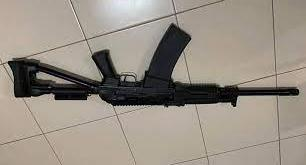larga: (7, 23, 299, 108)
